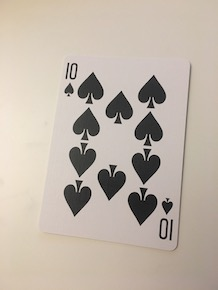TenOfSpades: (32, 52, 194, 254)
